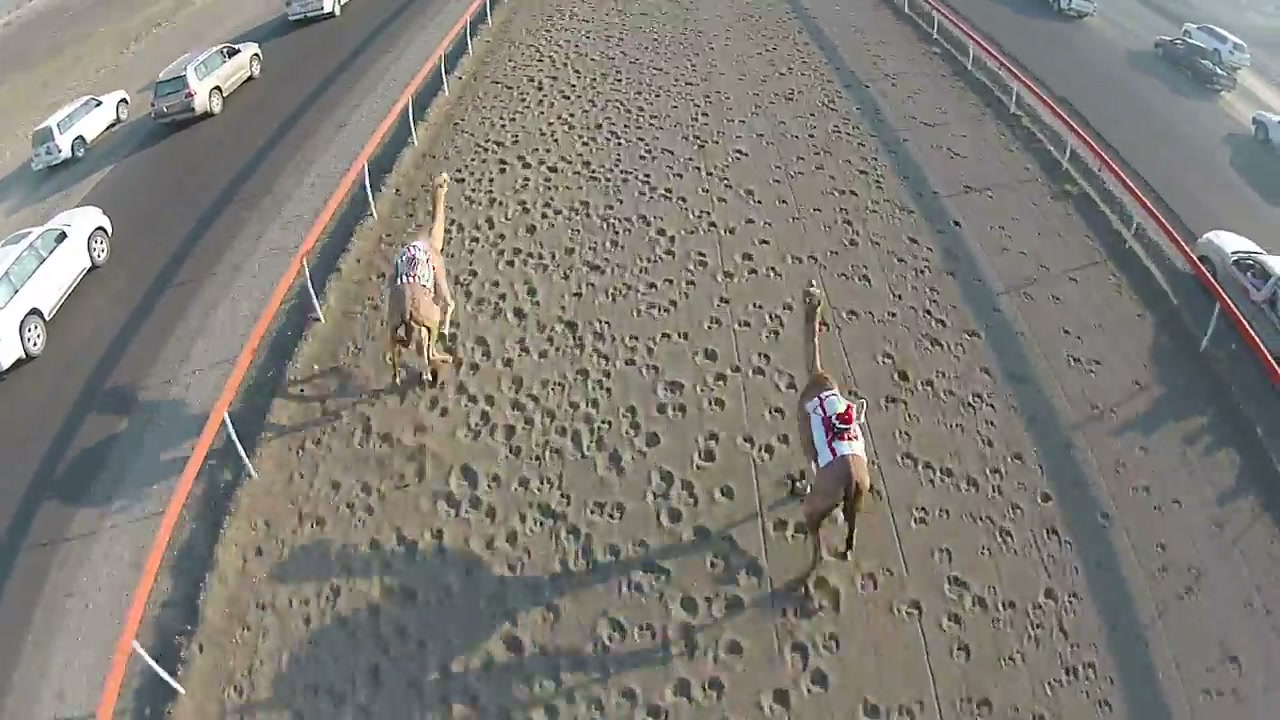animal_footprint: (175, 0, 1123, 719)
